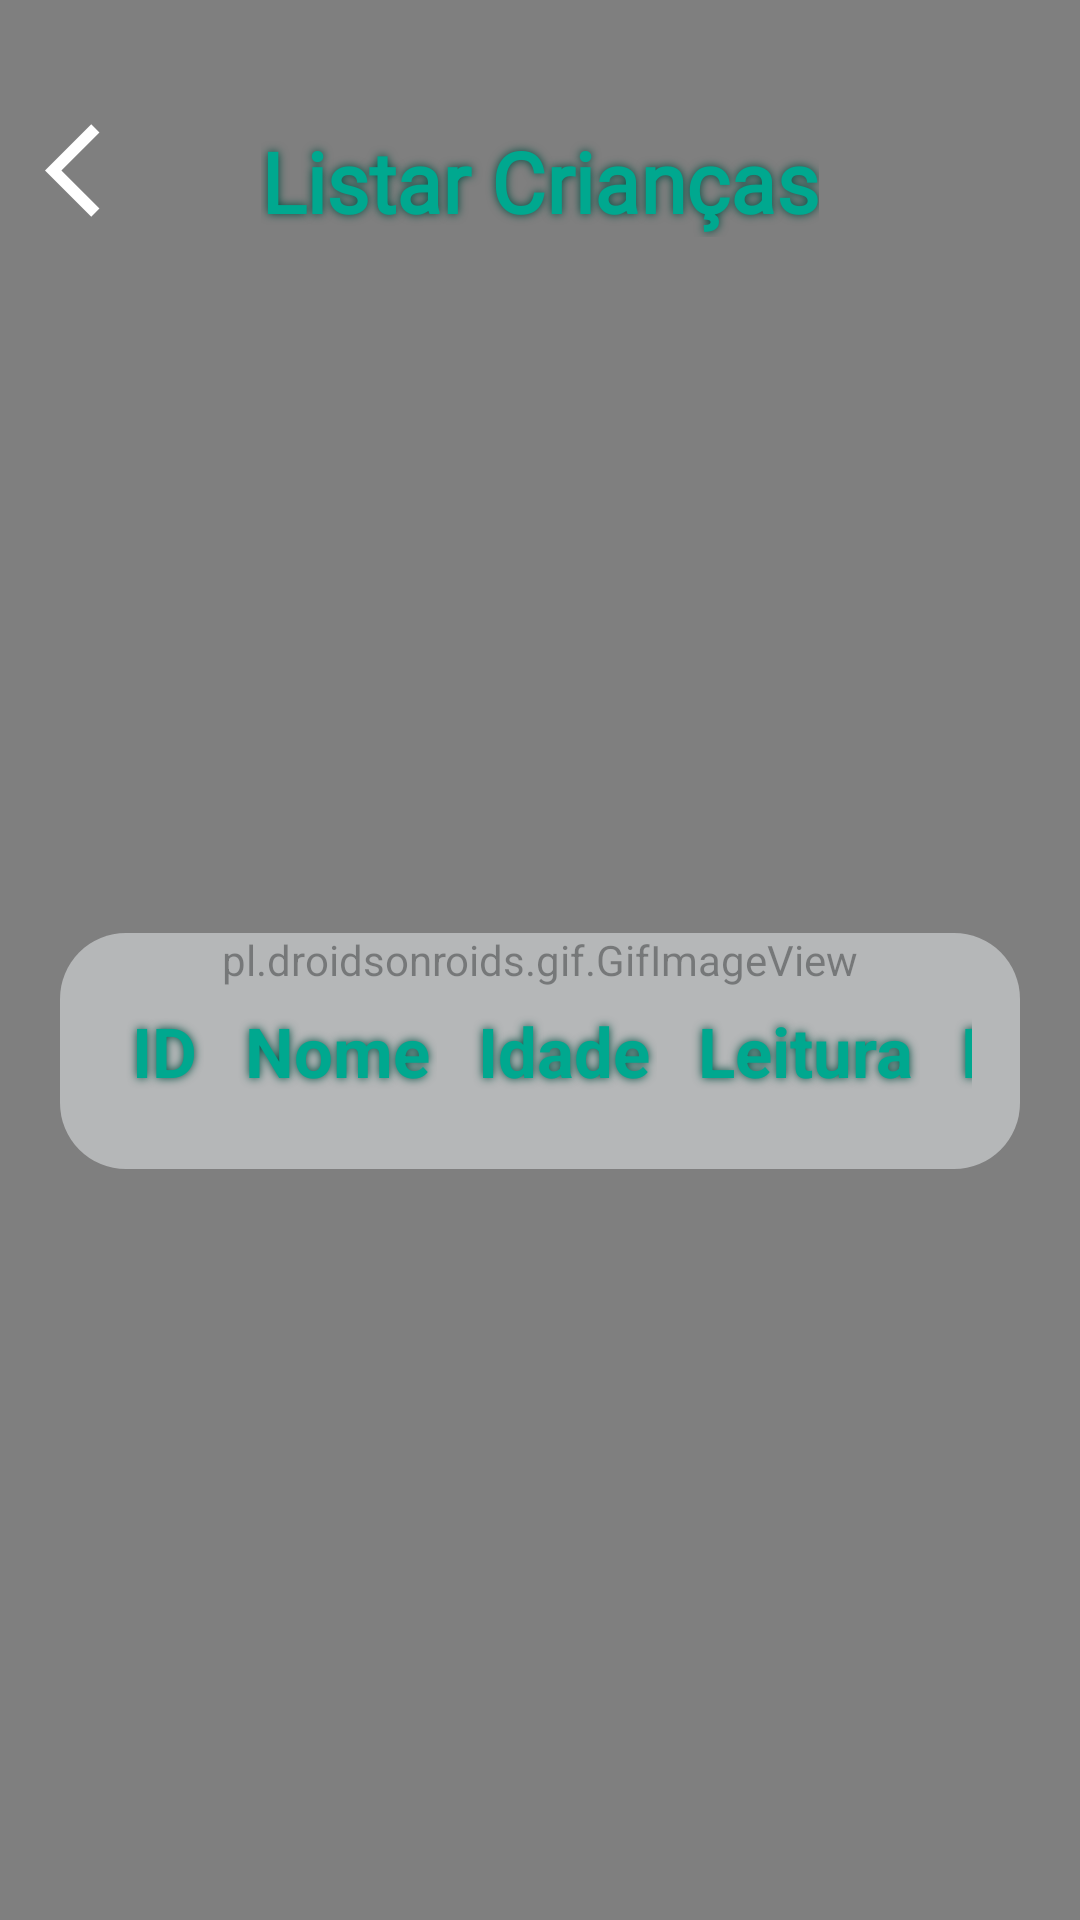

Named icons in this screenshot (1080w x 1920h) and their bounding boxes, [x1, y1, x2, y2]:
voltar: [45, 124, 99, 217]
